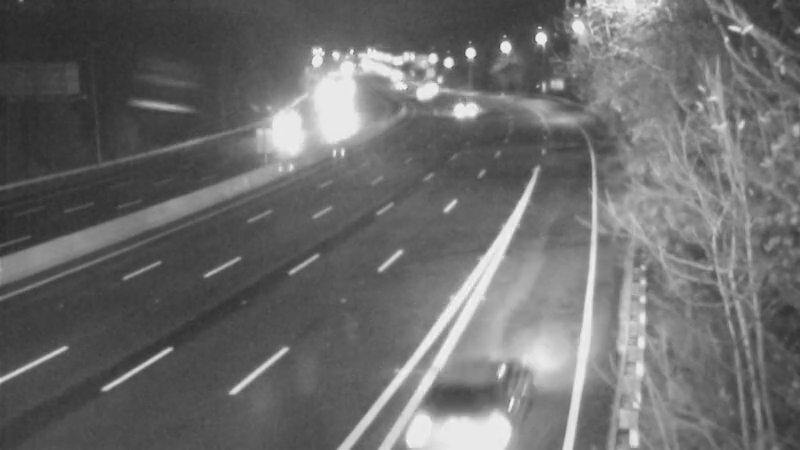vehicle: (411, 360, 521, 450), (378, 61, 428, 111), (396, 69, 446, 119), (438, 84, 488, 134), (270, 107, 320, 157), (307, 104, 357, 154)
